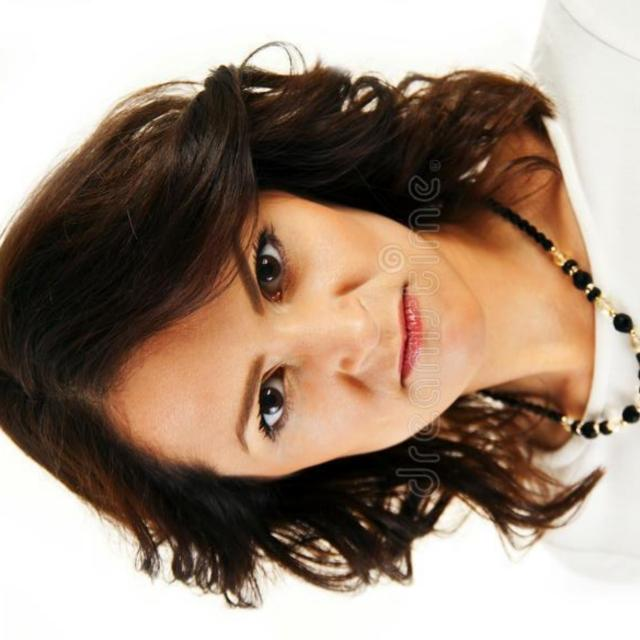Angry: (87, 104, 543, 551)
